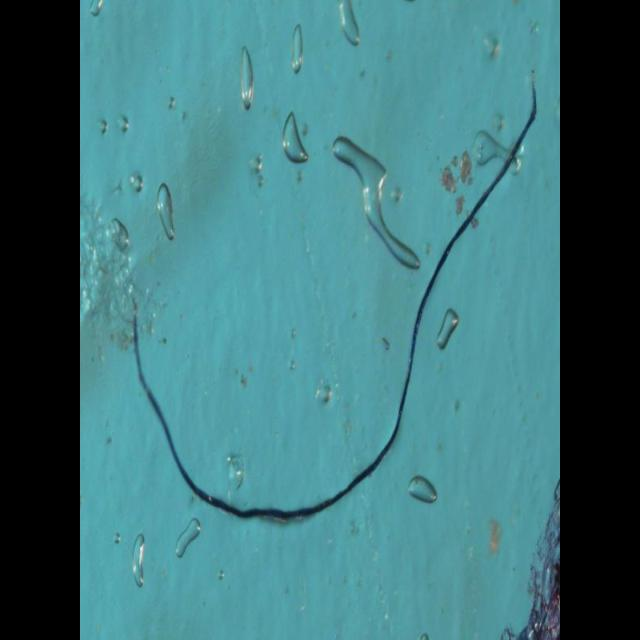Fibre: (129, 66, 539, 532)
